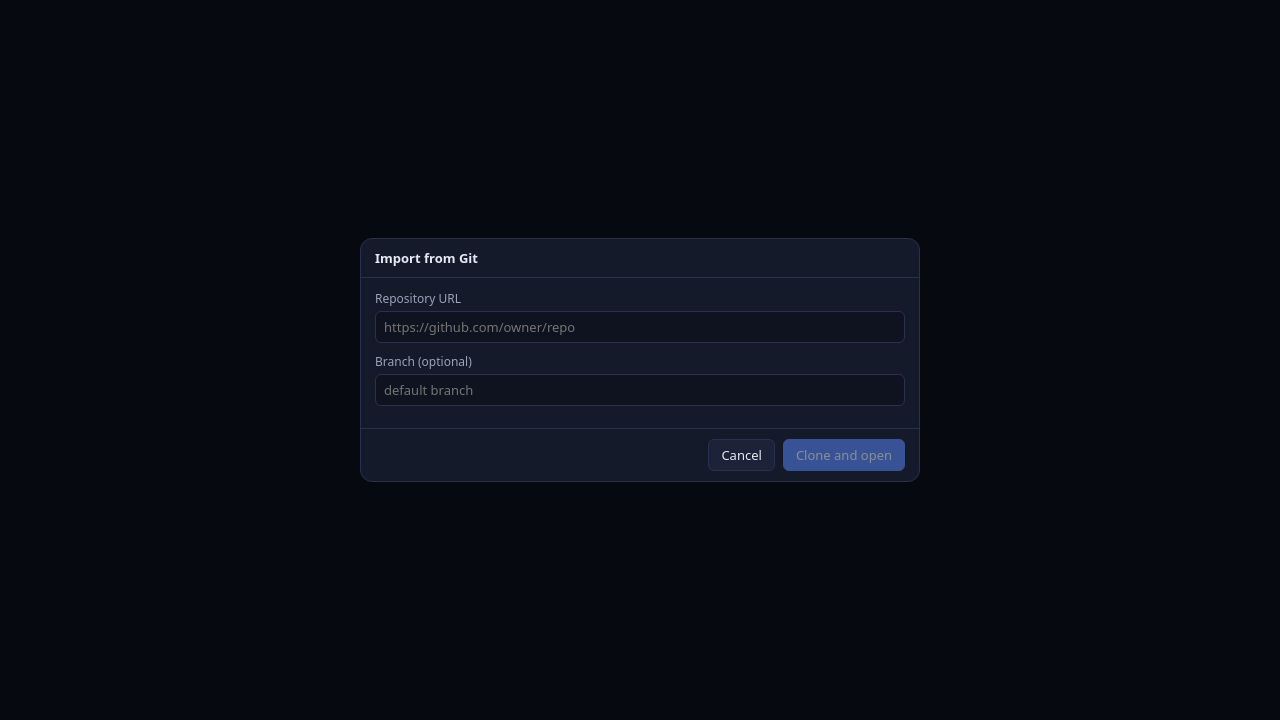
Test: GitImportDialog › shows clone errors inside the dialog
This screenshot has width=1280, height=720.
In the field labelled "Repository URL": (640, 327) [375,311,905,343], type "https://github.com/x/y"
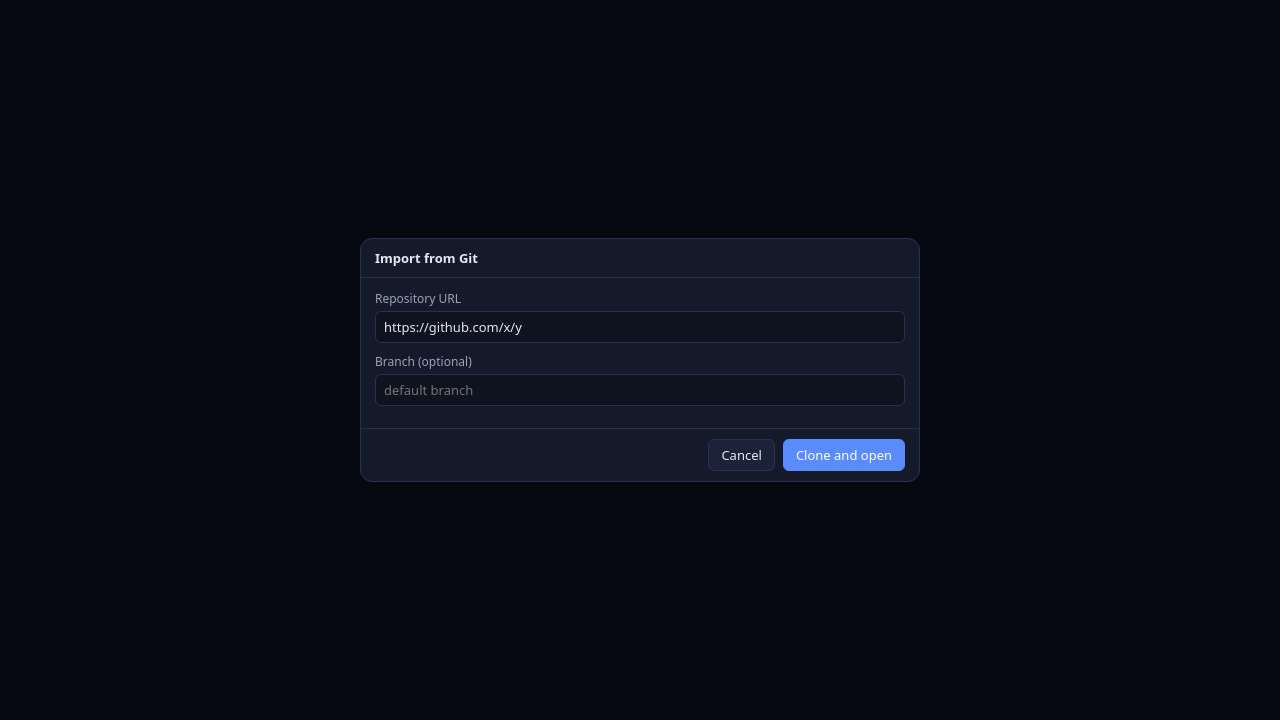
Click the button "Clone and open": (844, 455) [783,439,905,471]
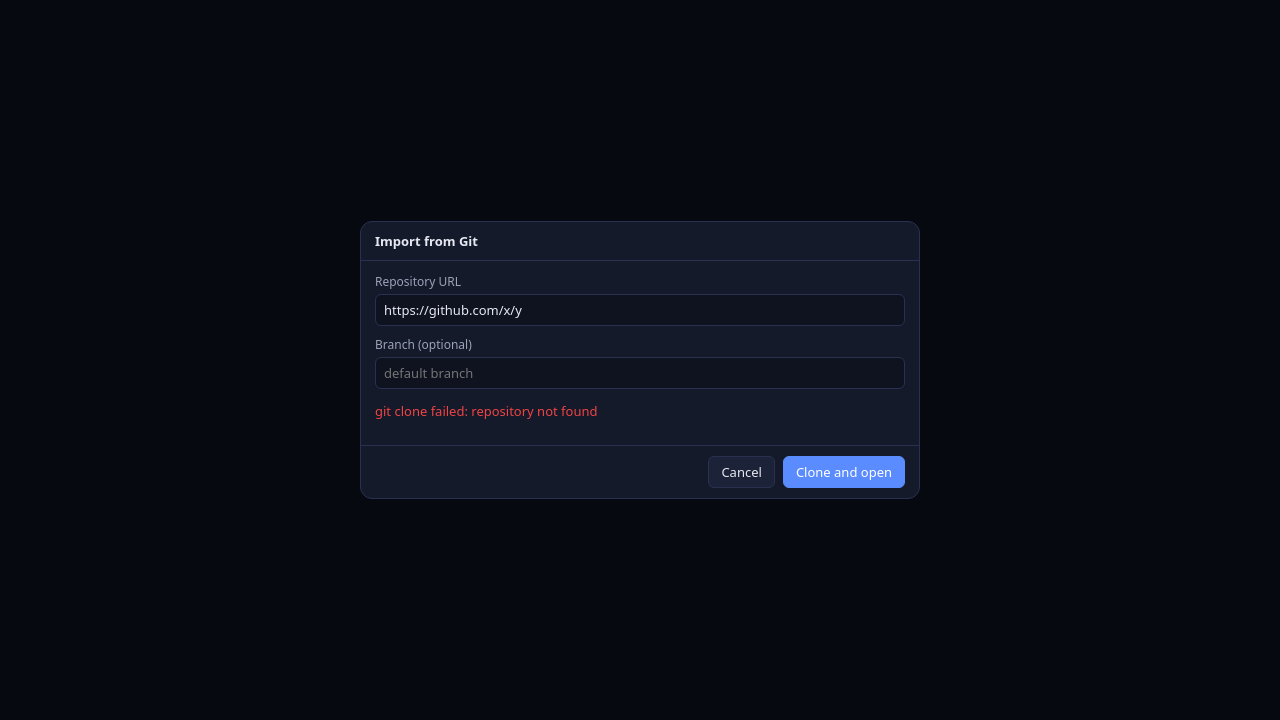
Check: the text "git clone failed: repository not found" is shown, box [375,402,598,420]
